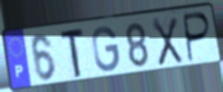6: (30, 33, 58, 84)
8: (124, 21, 150, 69)
G: (90, 25, 121, 74)
P: (183, 11, 213, 65)
T: (59, 26, 85, 80)
X: (151, 16, 185, 68)
